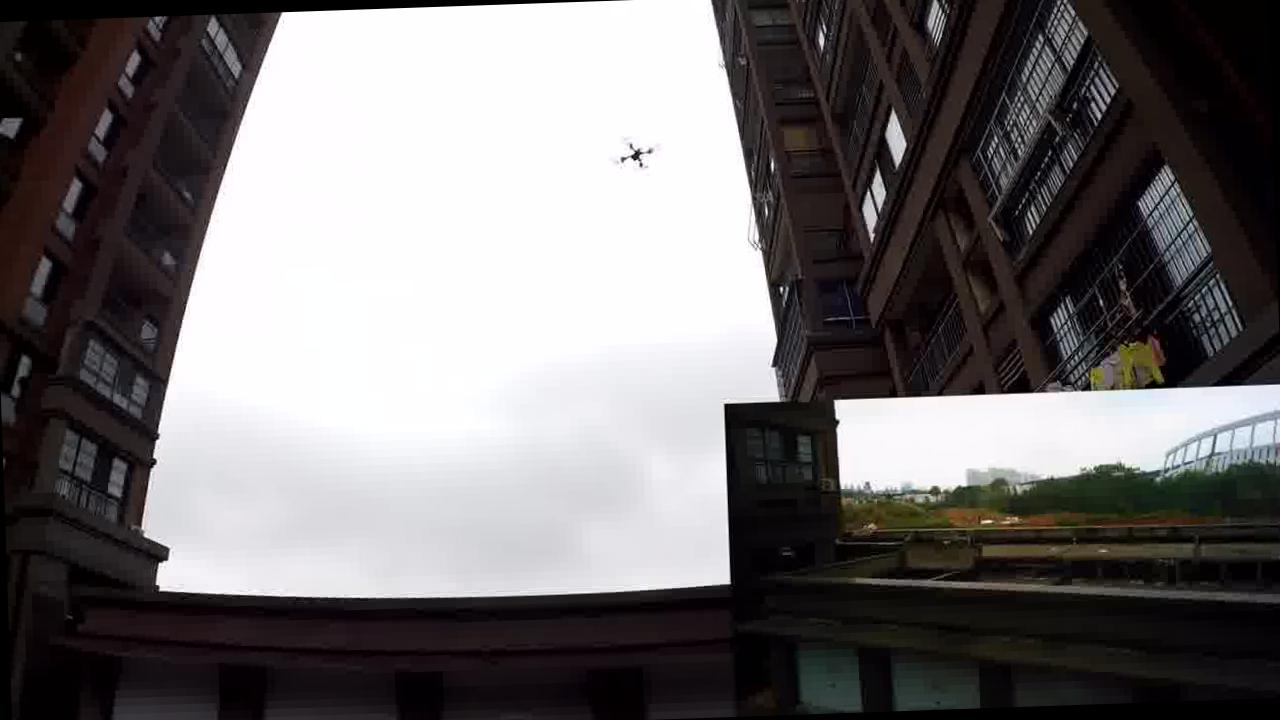drone: (610, 136, 656, 179)
